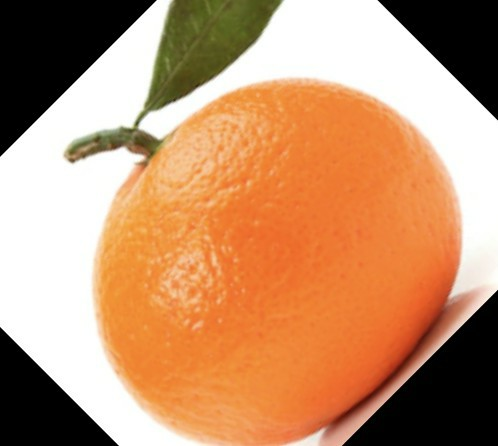fresh_orange: (92, 77, 465, 441)
